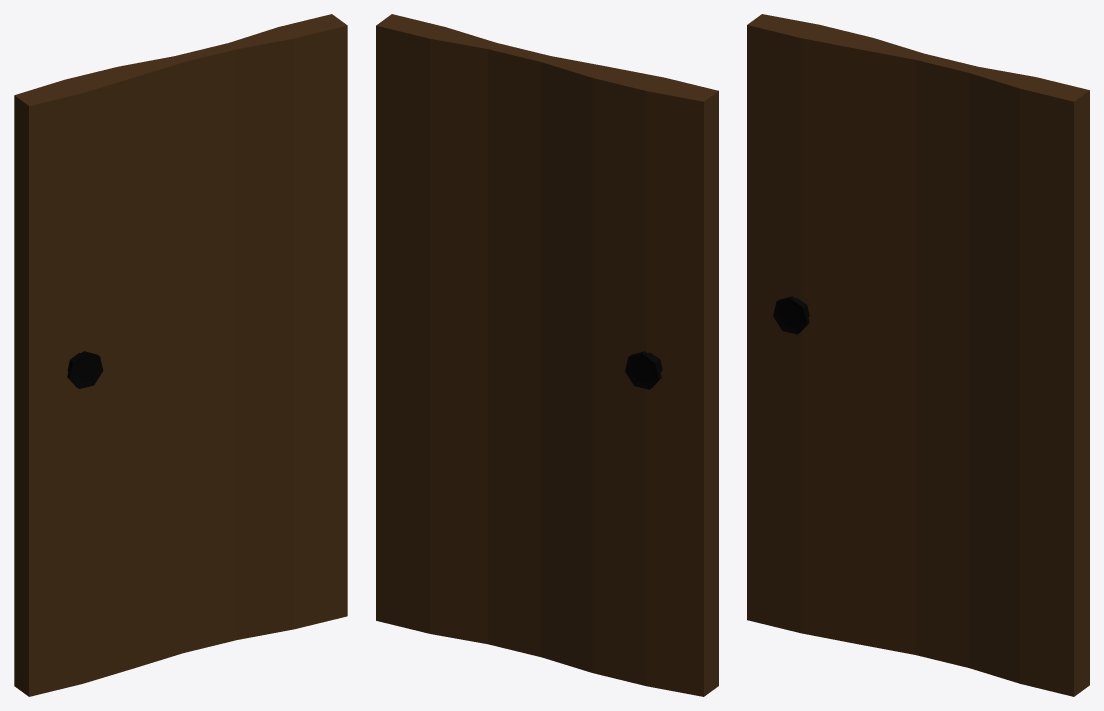
The model's file is Door.fbx.
3 renders of one model, left to right at view 1: azimuth 30°, elevation 25°; view 2: azimuth 150°, elevation 25°; view 3: azimuth 330°, elevation 25°, orthographic.
Visible parts, largest first — view 1: Door; view 2: Door; view 3: Door.
Boxes of the visible parts, <box> form: Door: <box>14,14,347,696</box>; Door: <box>376,14,718,696</box>; Door: <box>747,14,1089,696</box>.
Size of the model in its own units: 108 by 190 by 19.74.
Materials: 1 (1 with a texture image).
